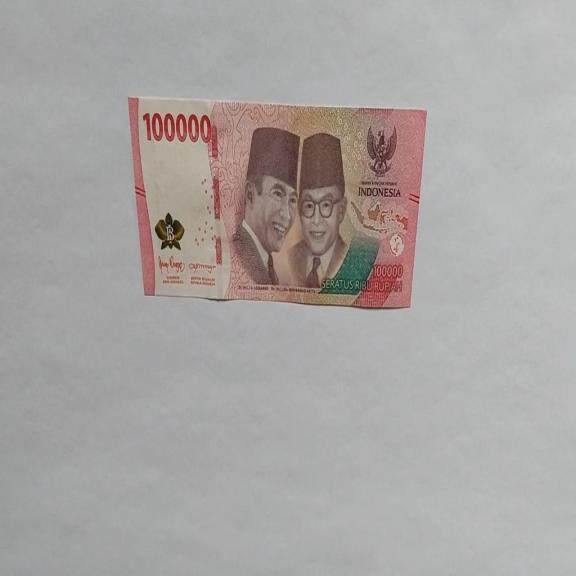Kertas: (127, 94, 428, 310), (141, 109, 212, 145)
